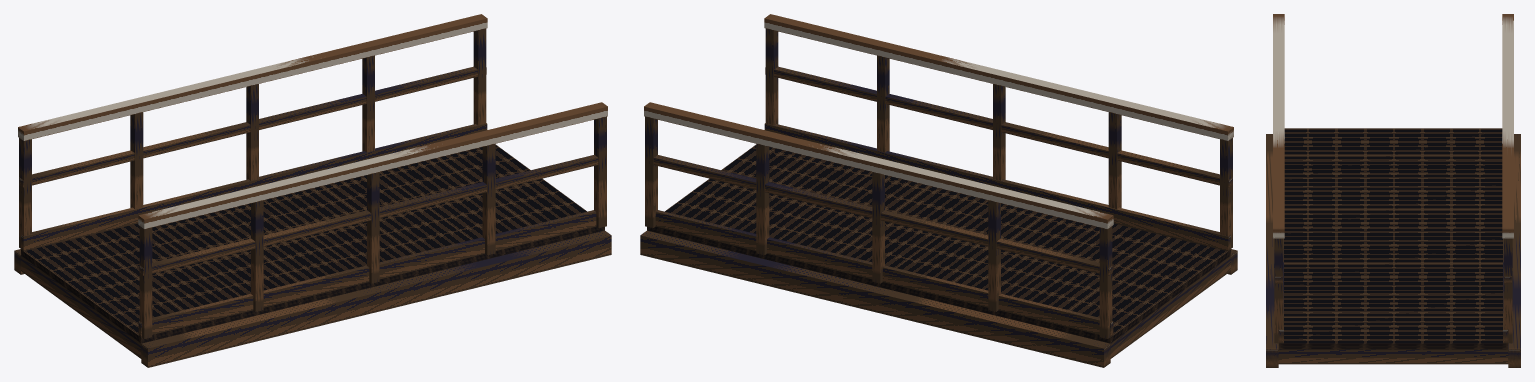
Rendered from PUE-01_Tramo_de_tablero.gltf.
3 renders of one model, left to right at view 1: azimuth 30°, elevation 25°; view 2: azimuth 150°, elevation 25°; view 3: azimuth 270°, elevation 25°, orthographic. The views are drawn at different scales.
Parts seen in each view (by area): view 1: PUE-01_Tramo_de_tablero-col; view 2: PUE-01_Tramo_de_tablero-col; view 3: PUE-01_Tramo_de_tablero-col.
Part boxes in pixels (bbox=[...]): PUE-01_Tramo_de_tablero-col: bbox=[14, 14, 611, 367]; PUE-01_Tramo_de_tablero-col: bbox=[640, 14, 1237, 367]; PUE-01_Tramo_de_tablero-col: bbox=[1266, 14, 1520, 367].
Size of the model in its own units: 4 by 1.2 by 2.
Materials: 1 (1 with a texture image).
